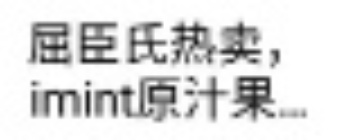TextView: (1, 1, 337, 139)
